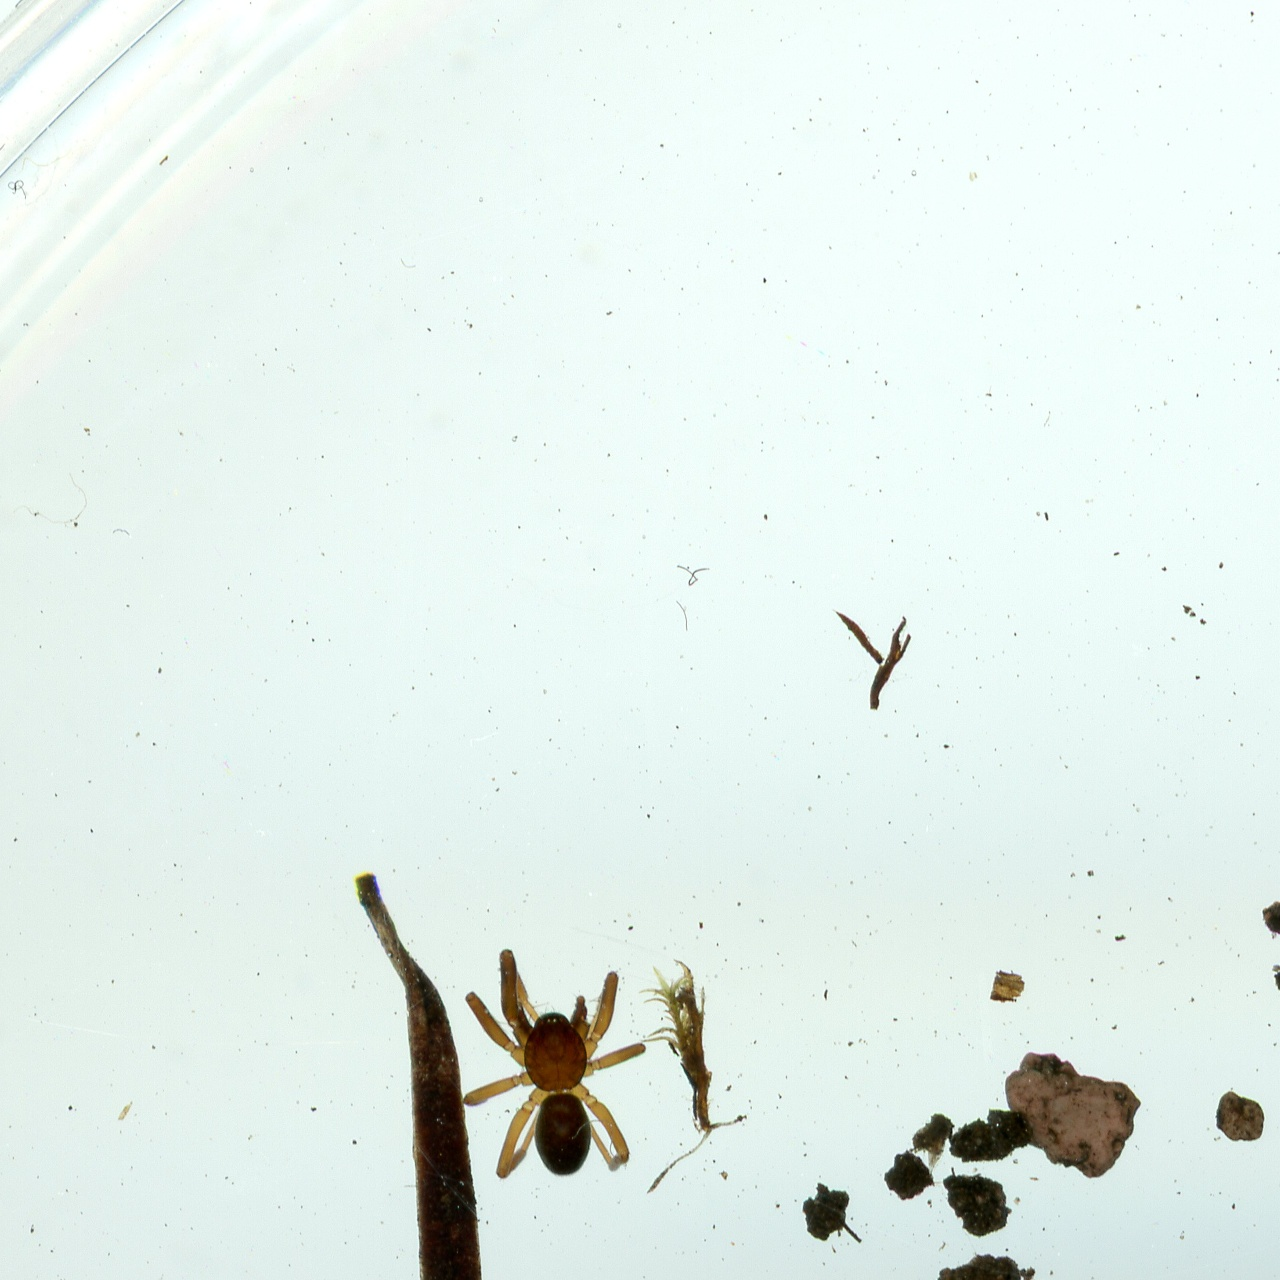arthropod: (459, 945, 648, 1185)
